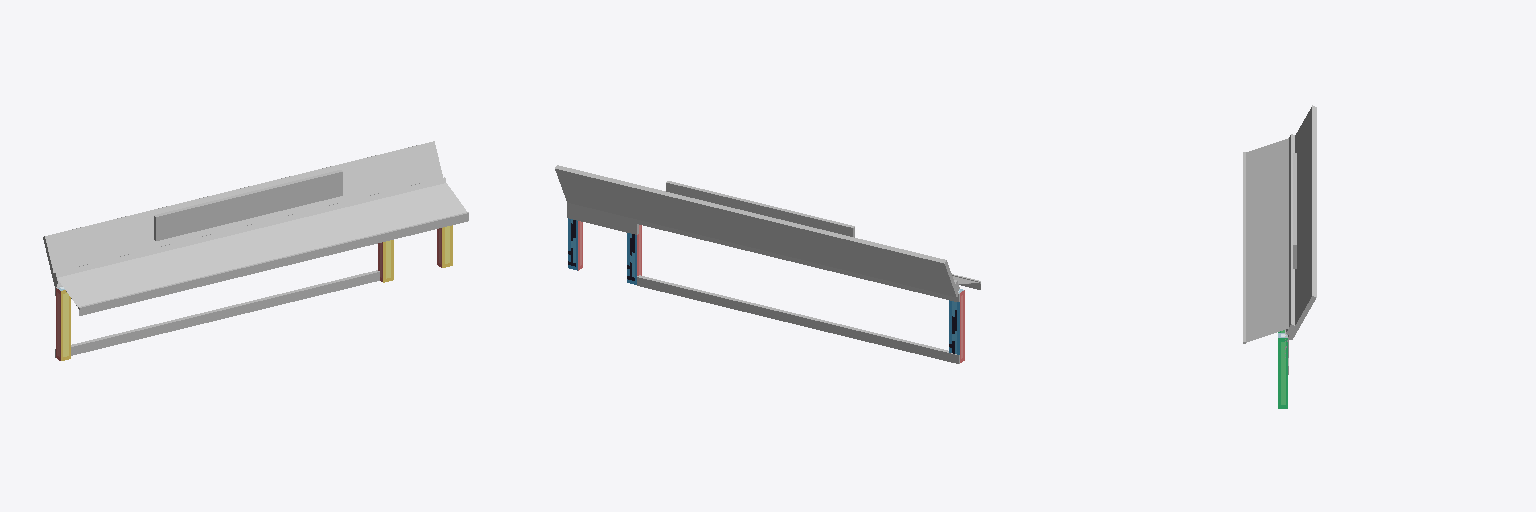
3 views of the same model, side by side, from view 1: azimuth 30°, elevation 25°; view 2: azimuth 150°, elevation 25°; view 3: azimuth 270°, elevation 25° (orthographic).
Visible parts, largest first — view 1: cuboid; view 2: cuboid; view 3: cuboid.
Part boxes in pixels (x1,y1,x2,y2): cuboid: (43,141,468,360); cuboid: (555,165,980,363); cuboid: (1243,105,1316,408).
Size of the model in its own units: 23.25 by 6.48 by 3.78.
2 materials, 1 textured.